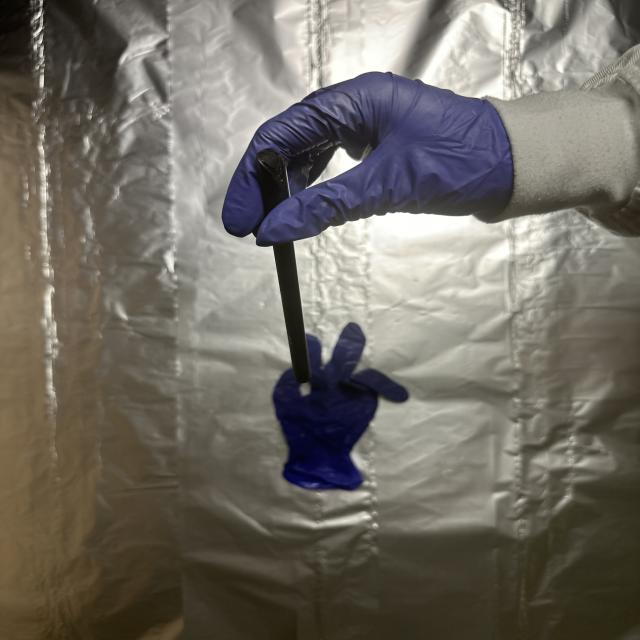gloves_contaminated: (222, 72, 514, 246)
